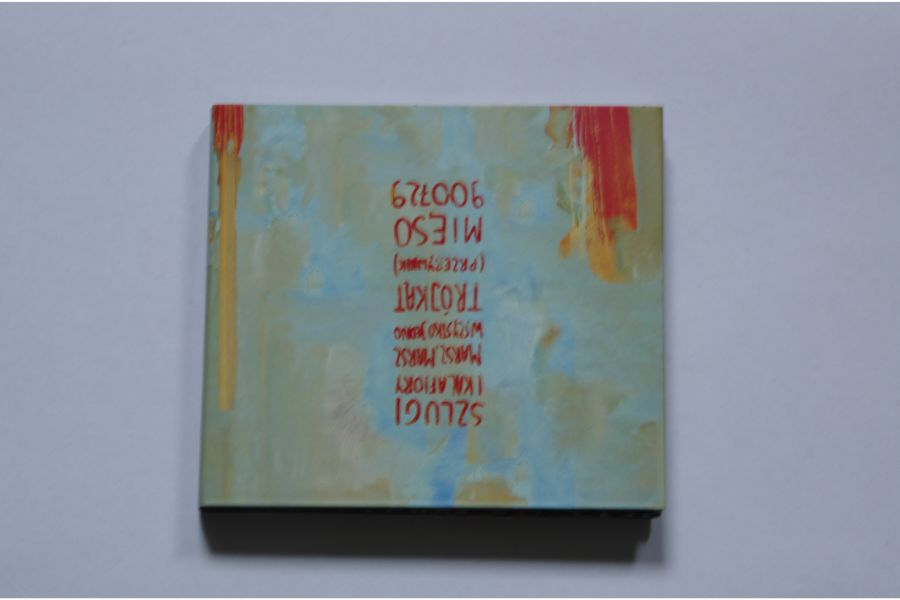album: (195, 104, 670, 520)
